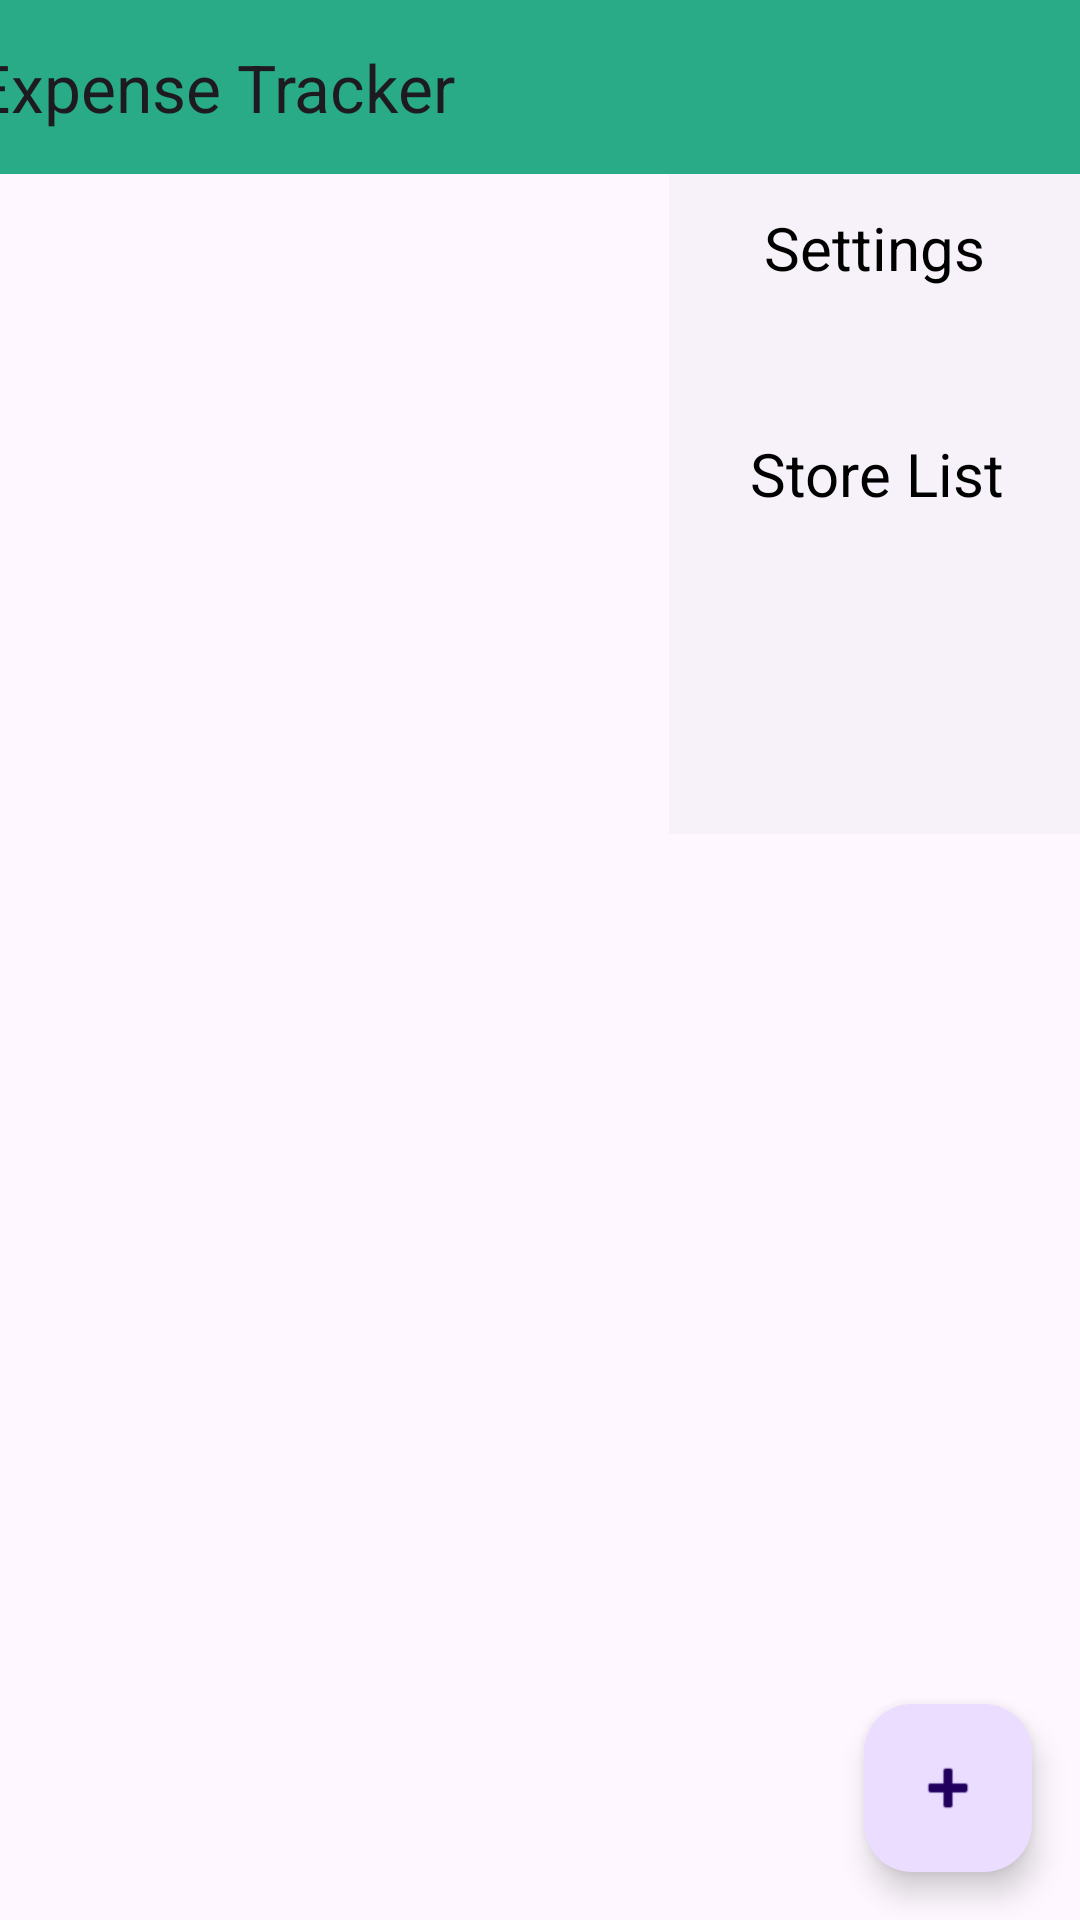

Named icons in this screenshot (1080×1920) and their bounding boxes, (x1, y1, x2, y2):
Add Expense Button: (864, 1704, 1032, 1872)
